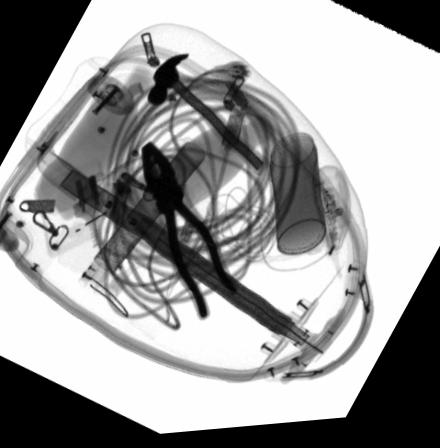Hammer: (147, 57, 267, 180)
Pliers: (141, 143, 237, 325)
